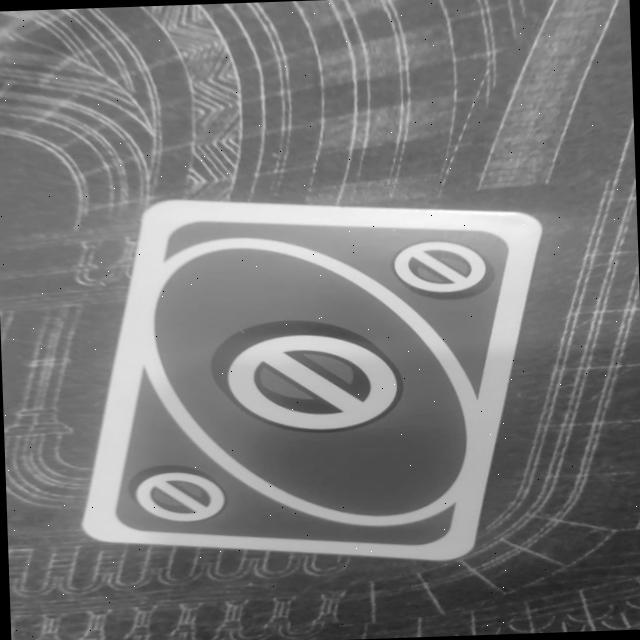skip_card: (68, 185, 556, 573)
